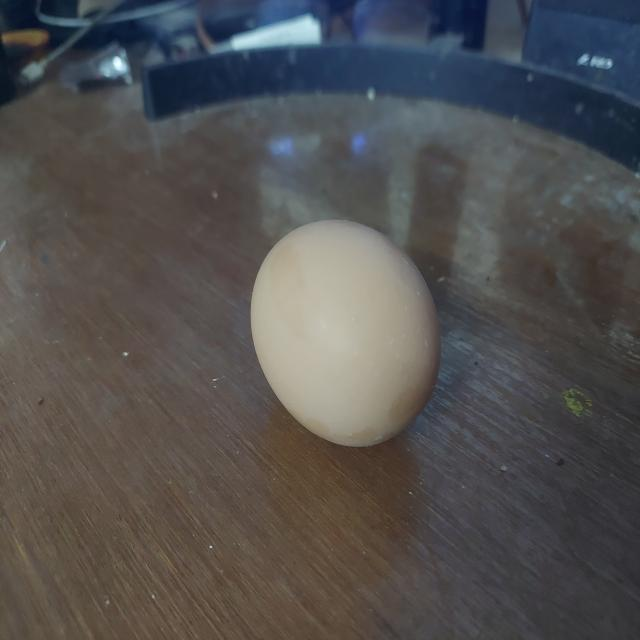Egg: (244, 213, 447, 457)
